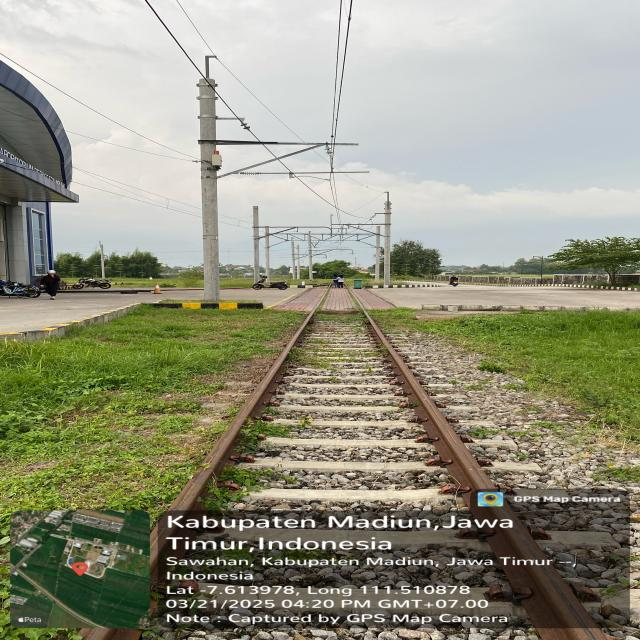rail-detection: (369, 318, 607, 640), (166, 311, 314, 519)
